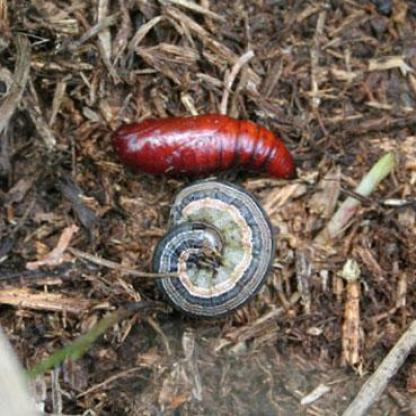armyworm: (156, 186, 276, 316), (109, 112, 298, 186)
